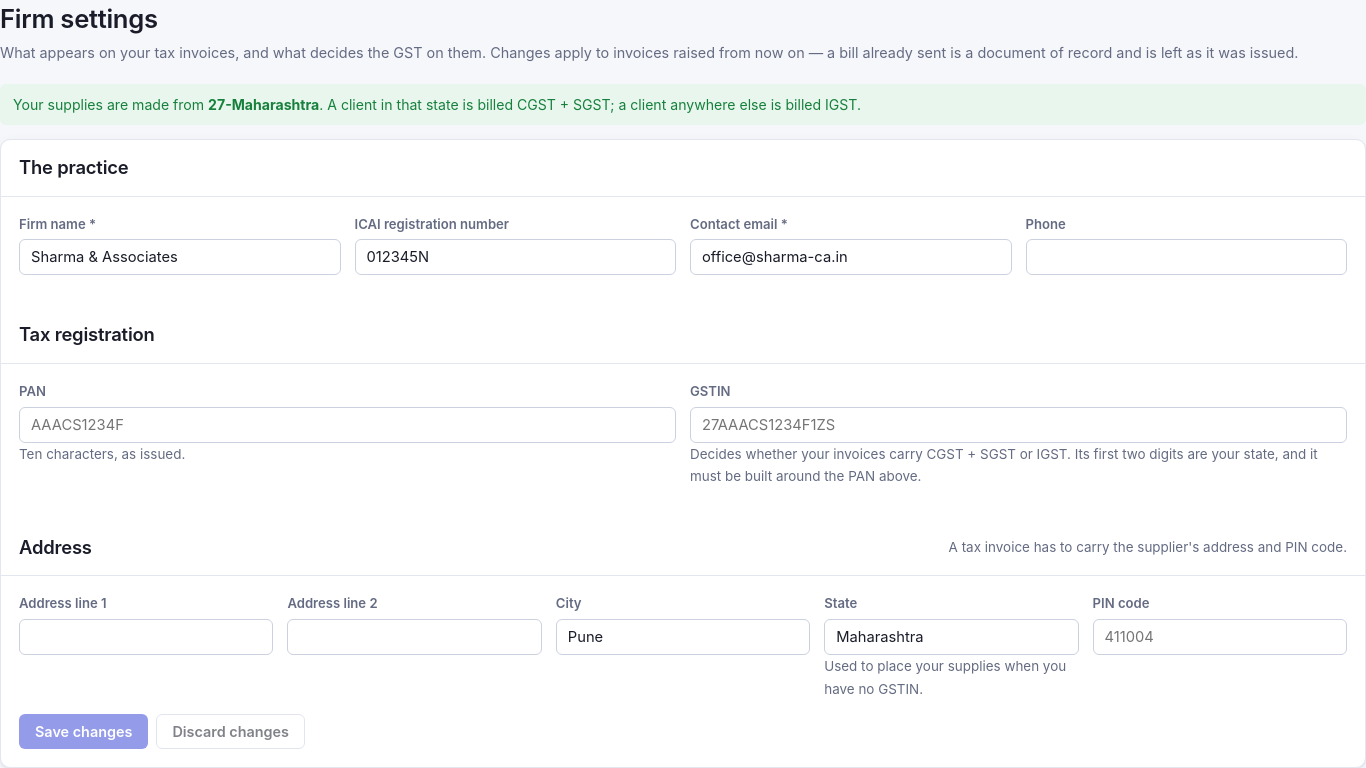
Test: Editing the firm › re-reads the place of supply from the saved record
The image size is (1366, 768).
Type "29AAACS1234F1ZO" into the field labelled "GSTIN".
click(1018, 425); type("29AAACS1234F1ZO")  # box 690,407 -> 1347,443
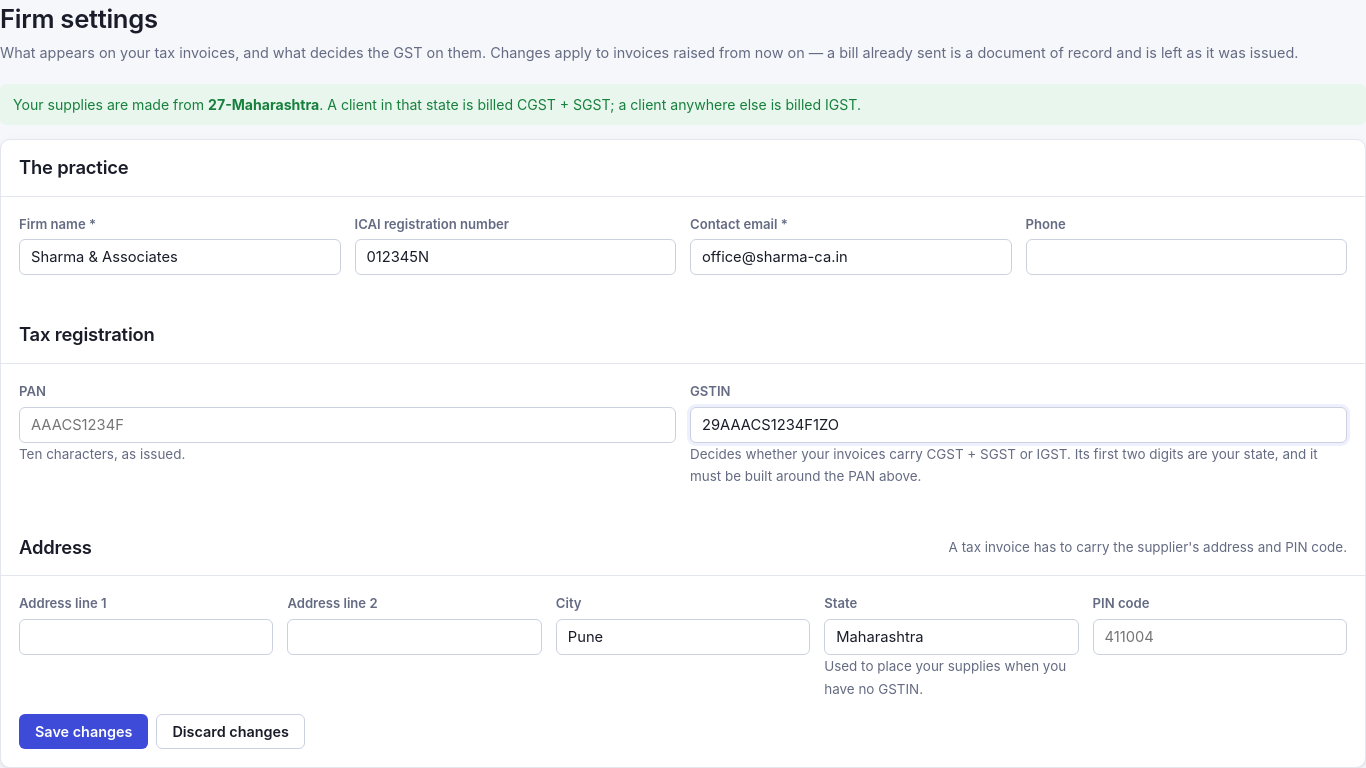
Click the button "Save changes".
click(84, 732)  # box 19,714 -> 148,749
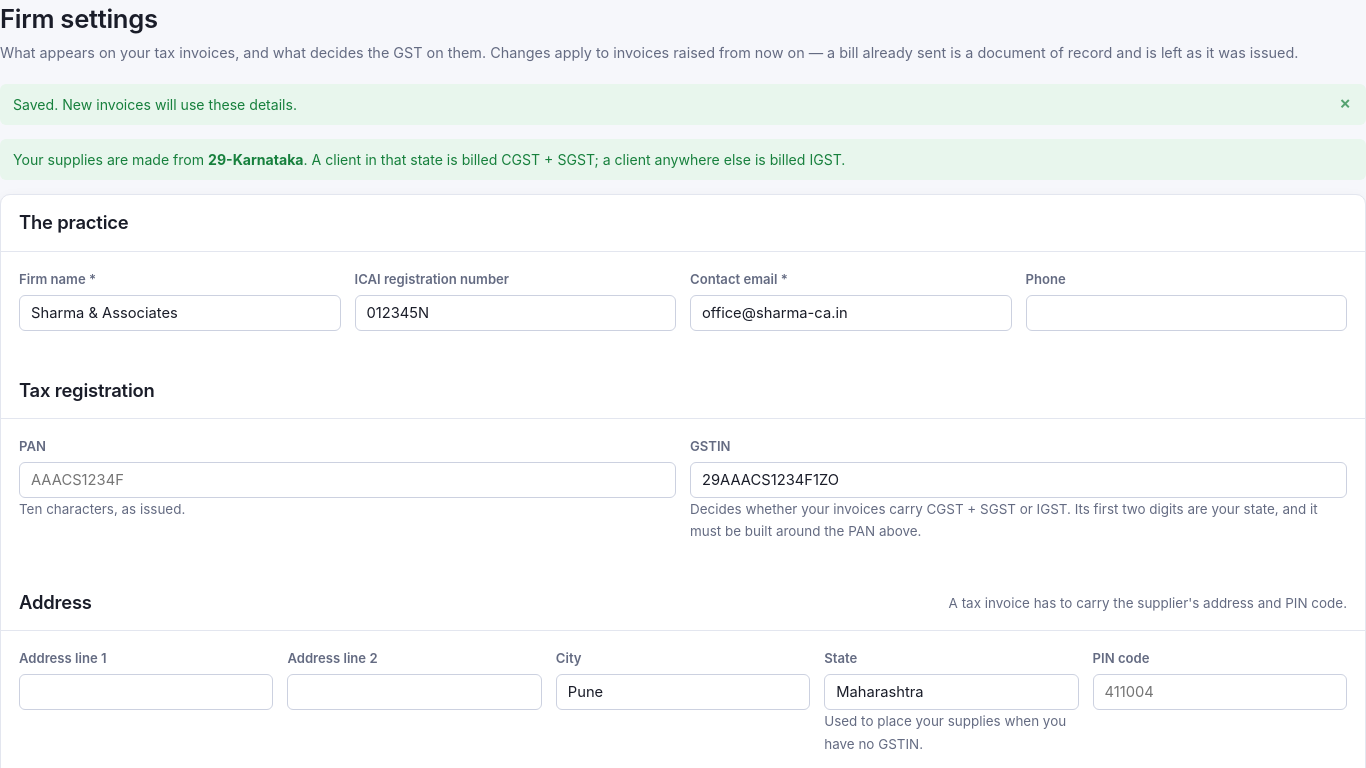
Now the text "29-Karnataka" is shown, box 208,151 -> 304,168
